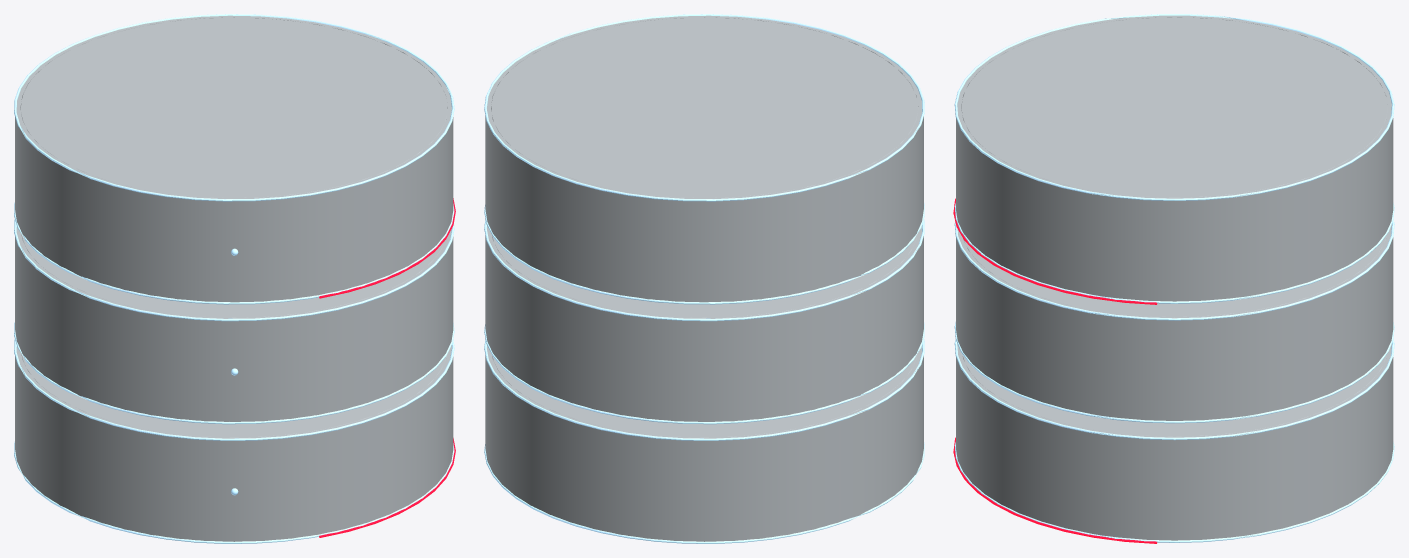
File: 11-database.glb
3 views of the same model, side by side, from view 1: azimuth 30°, elevation 25°; view 2: azimuth 150°, elevation 25°; view 3: azimuth 270°, elevation 25° (orthographic).
Visible parts, largest first — view 1: BC thin clear technical glass, BC cool glass edge, BC ruby signal edge; view 2: BC thin clear technical glass, BC cool glass edge; view 3: BC thin clear technical glass, BC cool glass edge, BC ruby signal edge.
Boxes of the visible parts, bbox=[...] form: BC thin clear technical glass: bbox=[15, 15, 453, 541]; BC cool glass edge: bbox=[14, 14, 454, 543]; BC ruby signal edge: bbox=[319, 198, 455, 537]; BC thin clear technical glass: bbox=[485, 15, 923, 541]; BC cool glass edge: bbox=[484, 14, 924, 543]; BC thin clear technical glass: bbox=[956, 15, 1393, 540]; BC cool glass edge: bbox=[954, 14, 1394, 542]; BC ruby signal edge: bbox=[953, 198, 1157, 543].
Size of the model in its own units: 1.47 by 1.27 by 1.47.
